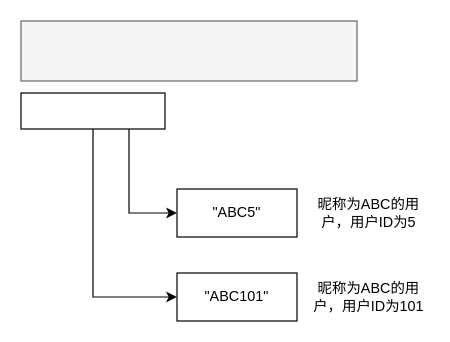
Image size: 450x342. Some labels were removed from this diagram. Each missing label, with the centre of its shape:
以用户表为例，用户id作主键。用户昵称为索引，用户昵称中大多有重复的情况，这时需要对这类普通索引加上唯一后缀(用户id)避免重复昵称被覆盖。: point (188, 50)
前缀索引key "ABC": point (92, 110)
